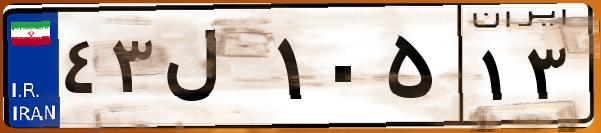0: (330, 28, 385, 110)
1: (270, 28, 330, 110), (475, 38, 525, 113)
3: (525, 38, 570, 115), (110, 28, 158, 98)
4: (57, 26, 110, 100)
5: (385, 28, 445, 110)
ل: (158, 20, 270, 120)
